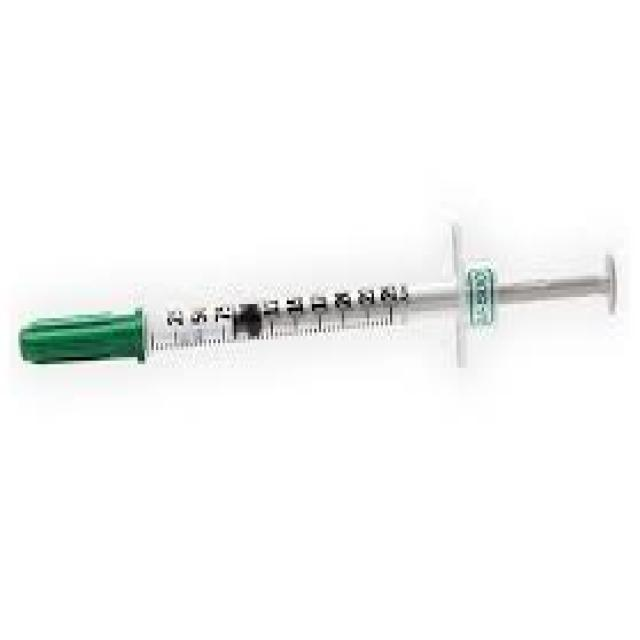syringe: (16, 219, 619, 368)
